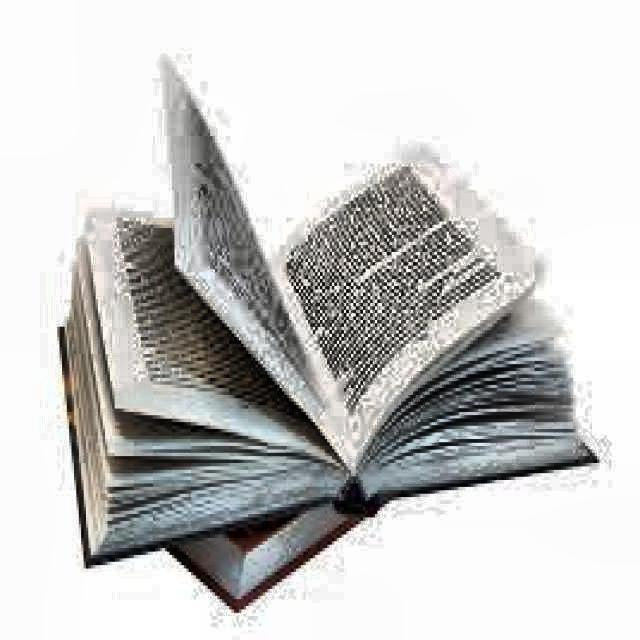Paper: (55, 51, 597, 565), (272, 137, 535, 467), (160, 51, 349, 466), (77, 204, 342, 463), (160, 500, 375, 613)
